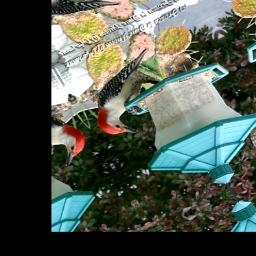Woodpecker: (73, 47, 186, 146)
